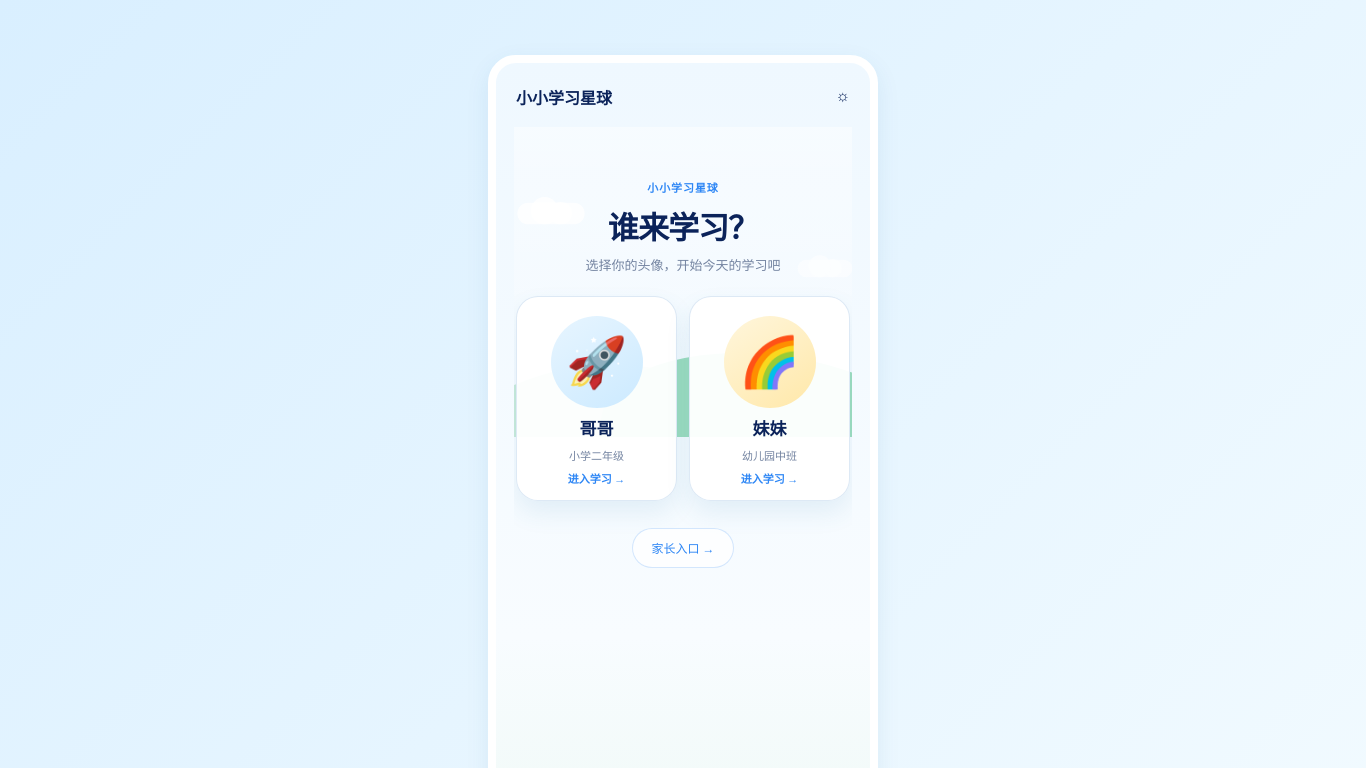
Test case: child learning pages › shows only active children and enters home after selecting one
Expected: the text "哥哥" is shown, [580, 415, 614, 440]
Expected: the text "妹妹" is shown, [752, 415, 786, 440]
Click the button with aria-label "选择哥哥" at (596, 398), box [516, 296, 677, 501]
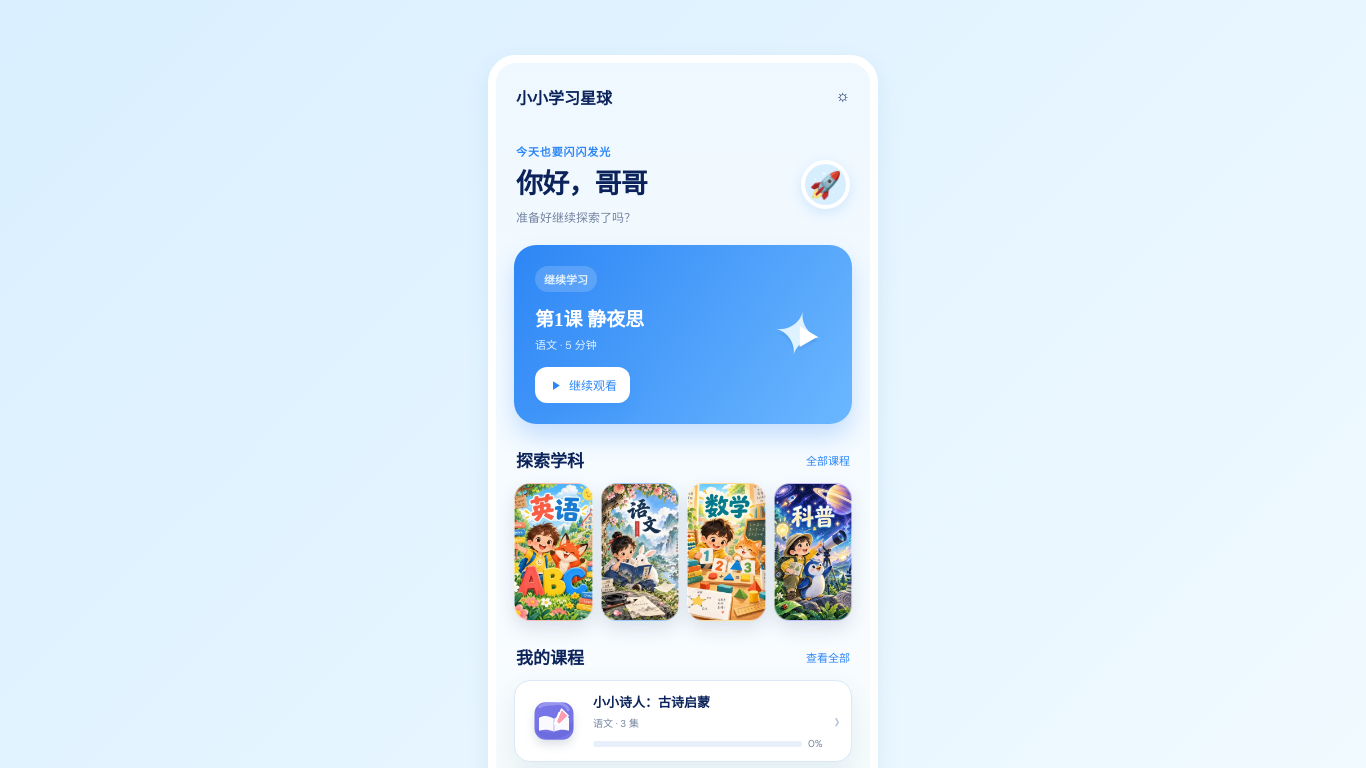
Expected: the heading "你好，哥哥" is shown, [516, 162, 647, 201]
